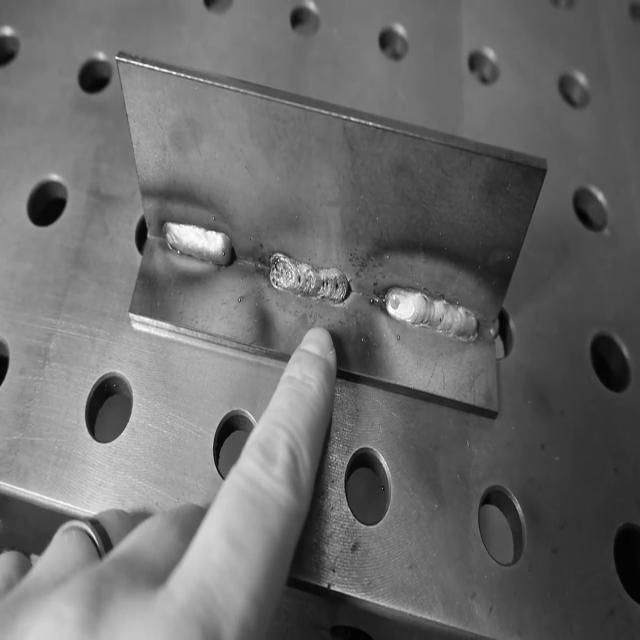Bad Weld: (268, 247, 350, 309)
Defect: (320, 276, 339, 294), (296, 271, 302, 289)
Good Weld: (404, 282, 501, 352), (162, 212, 235, 264)
